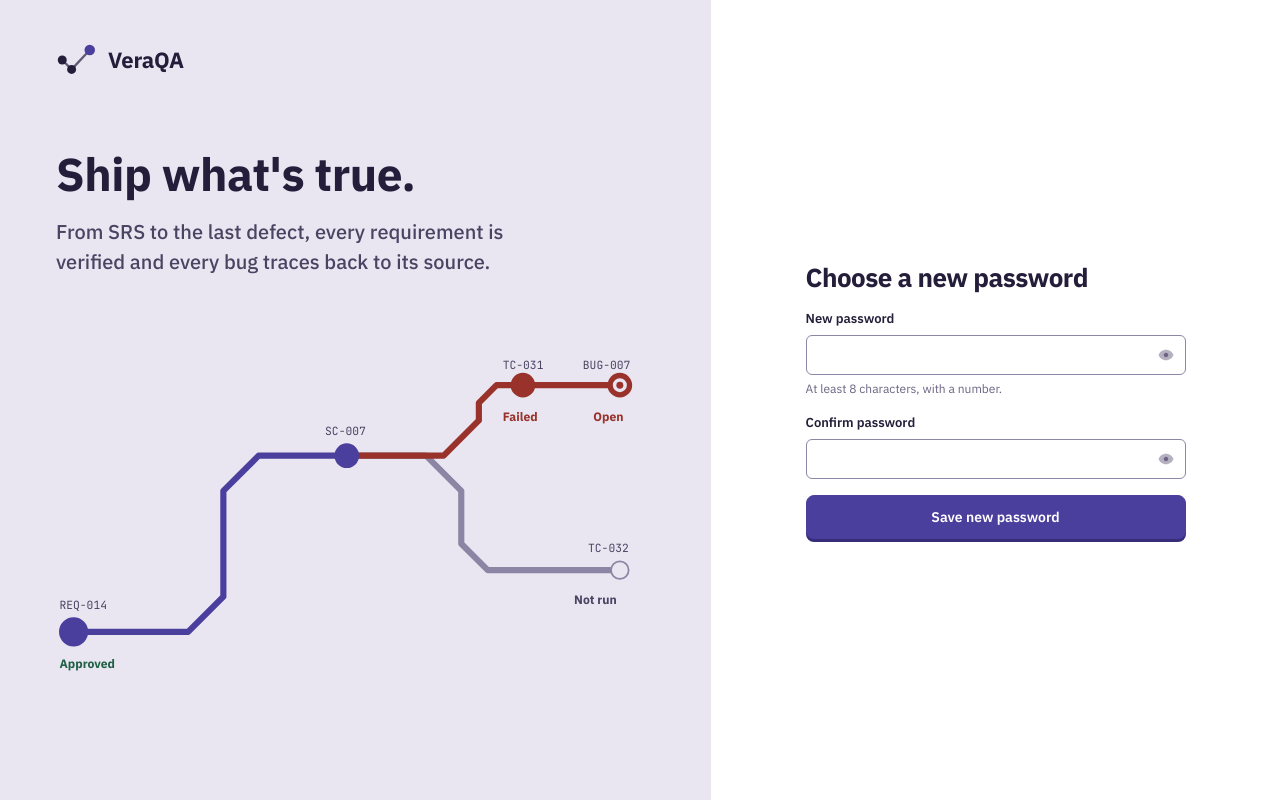
Test case: Choose a new password › saves the password and sends the person to sign in
Type "Fresh#2027" into the password field labelled "New password". click: (996, 355)
box: [806,335,1186,375]
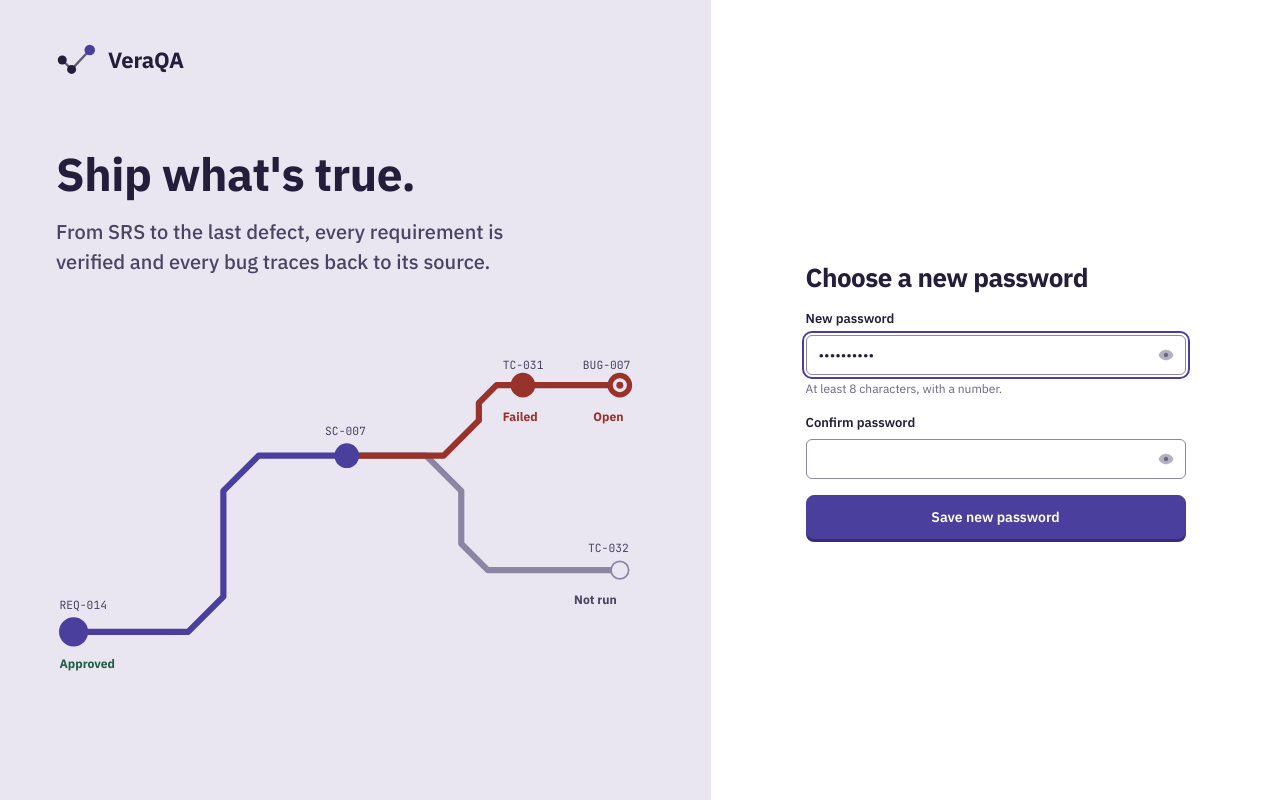
Type "Fresh#2027" into the password field labelled "Confirm password". click: (996, 459)
box: [806,439,1186,479]
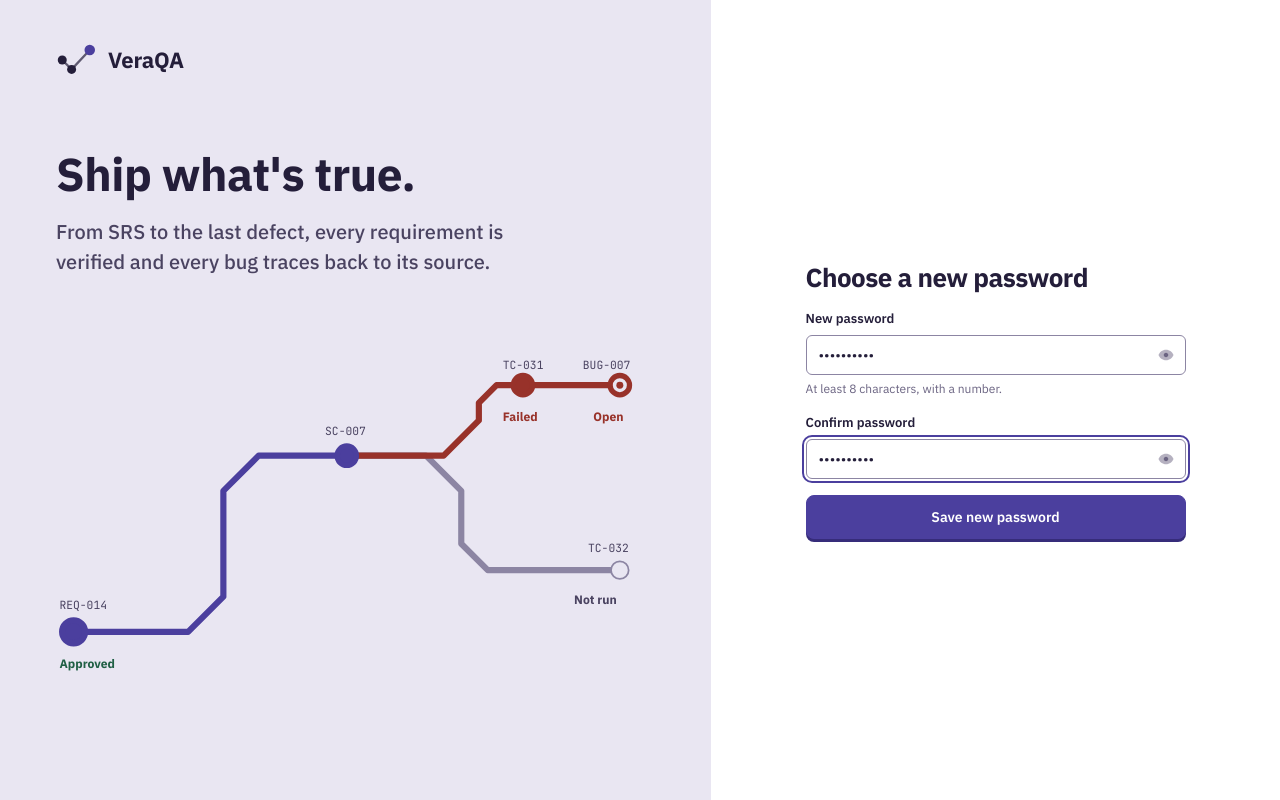
Click the button "Save new password". click: click(996, 517)
box: [806,495,1186,539]
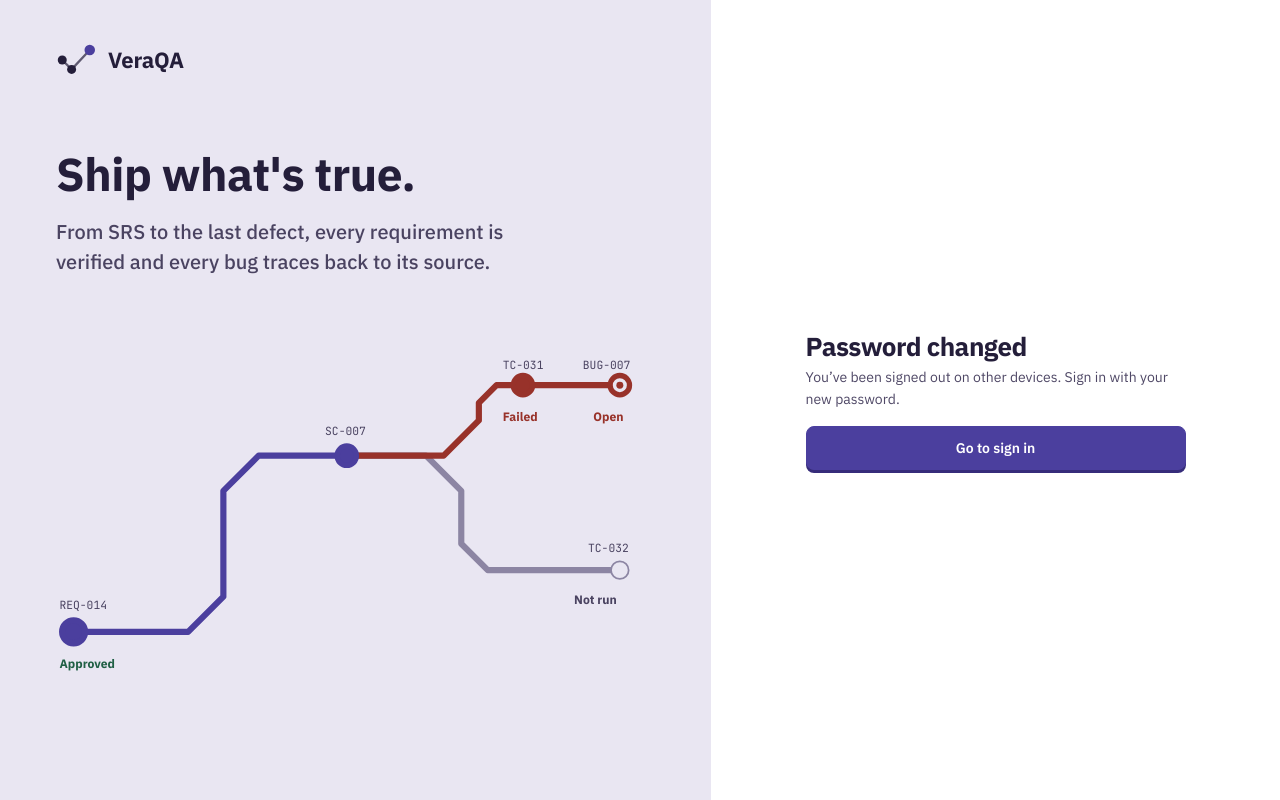
Expected: the heading "Password changed" is shown, [806,329,1027,363]
Expected: the text "You’ve been signed out on other devices. Sign in with your new password." is shown, [806,366,1186,410]
